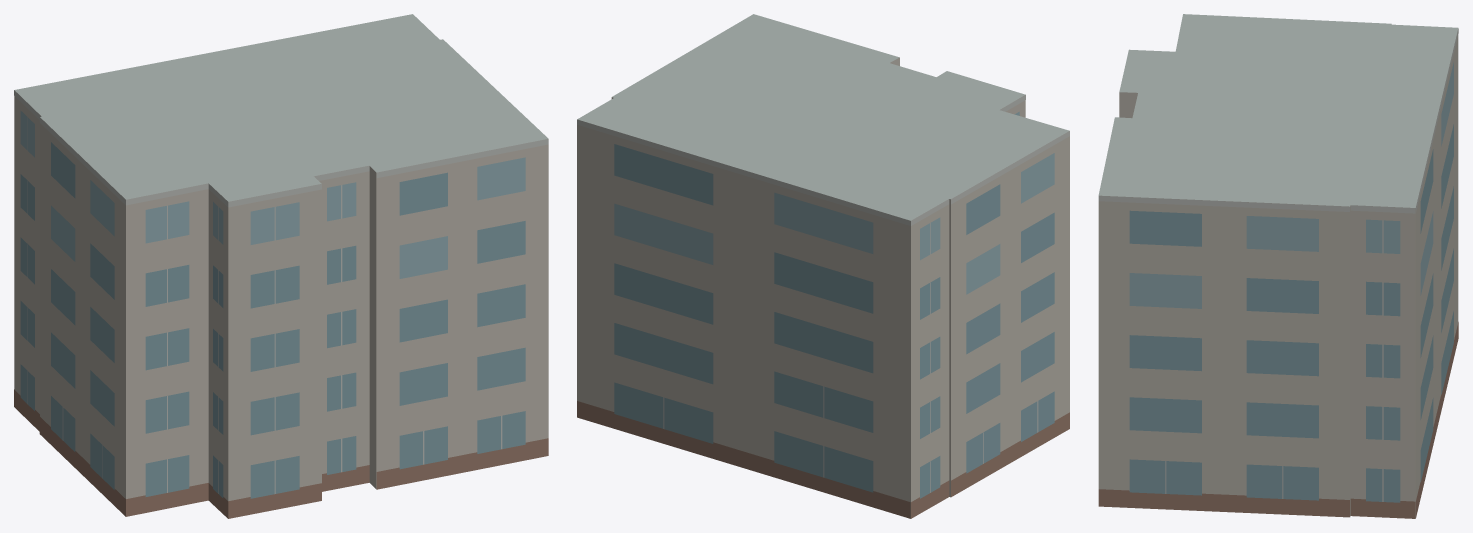
File: survey-upis-32680885.glb
3 renders of one model, left to right at view 1: azimuth 30°, elevation 25°; view 2: azimuth 150°, elevation 25°; view 3: azimuth 270°, elevation 25°, orthographic. The views are drawn at different scales.
Parts seen in each view (by area): view 1: survey-upis-32680885.tmp; view 2: survey-upis-32680885.tmp; view 3: survey-upis-32680885.tmp.
Part boxes in pixels (x1,y1,x2,y2): survey-upis-32680885.tmp: (14,14,548,518); survey-upis-32680885.tmp: (577,14,1069,518); survey-upis-32680885.tmp: (1098,14,1458,518).
Size of the model in its own units: 18.21 by 13.6 by 14.28.
